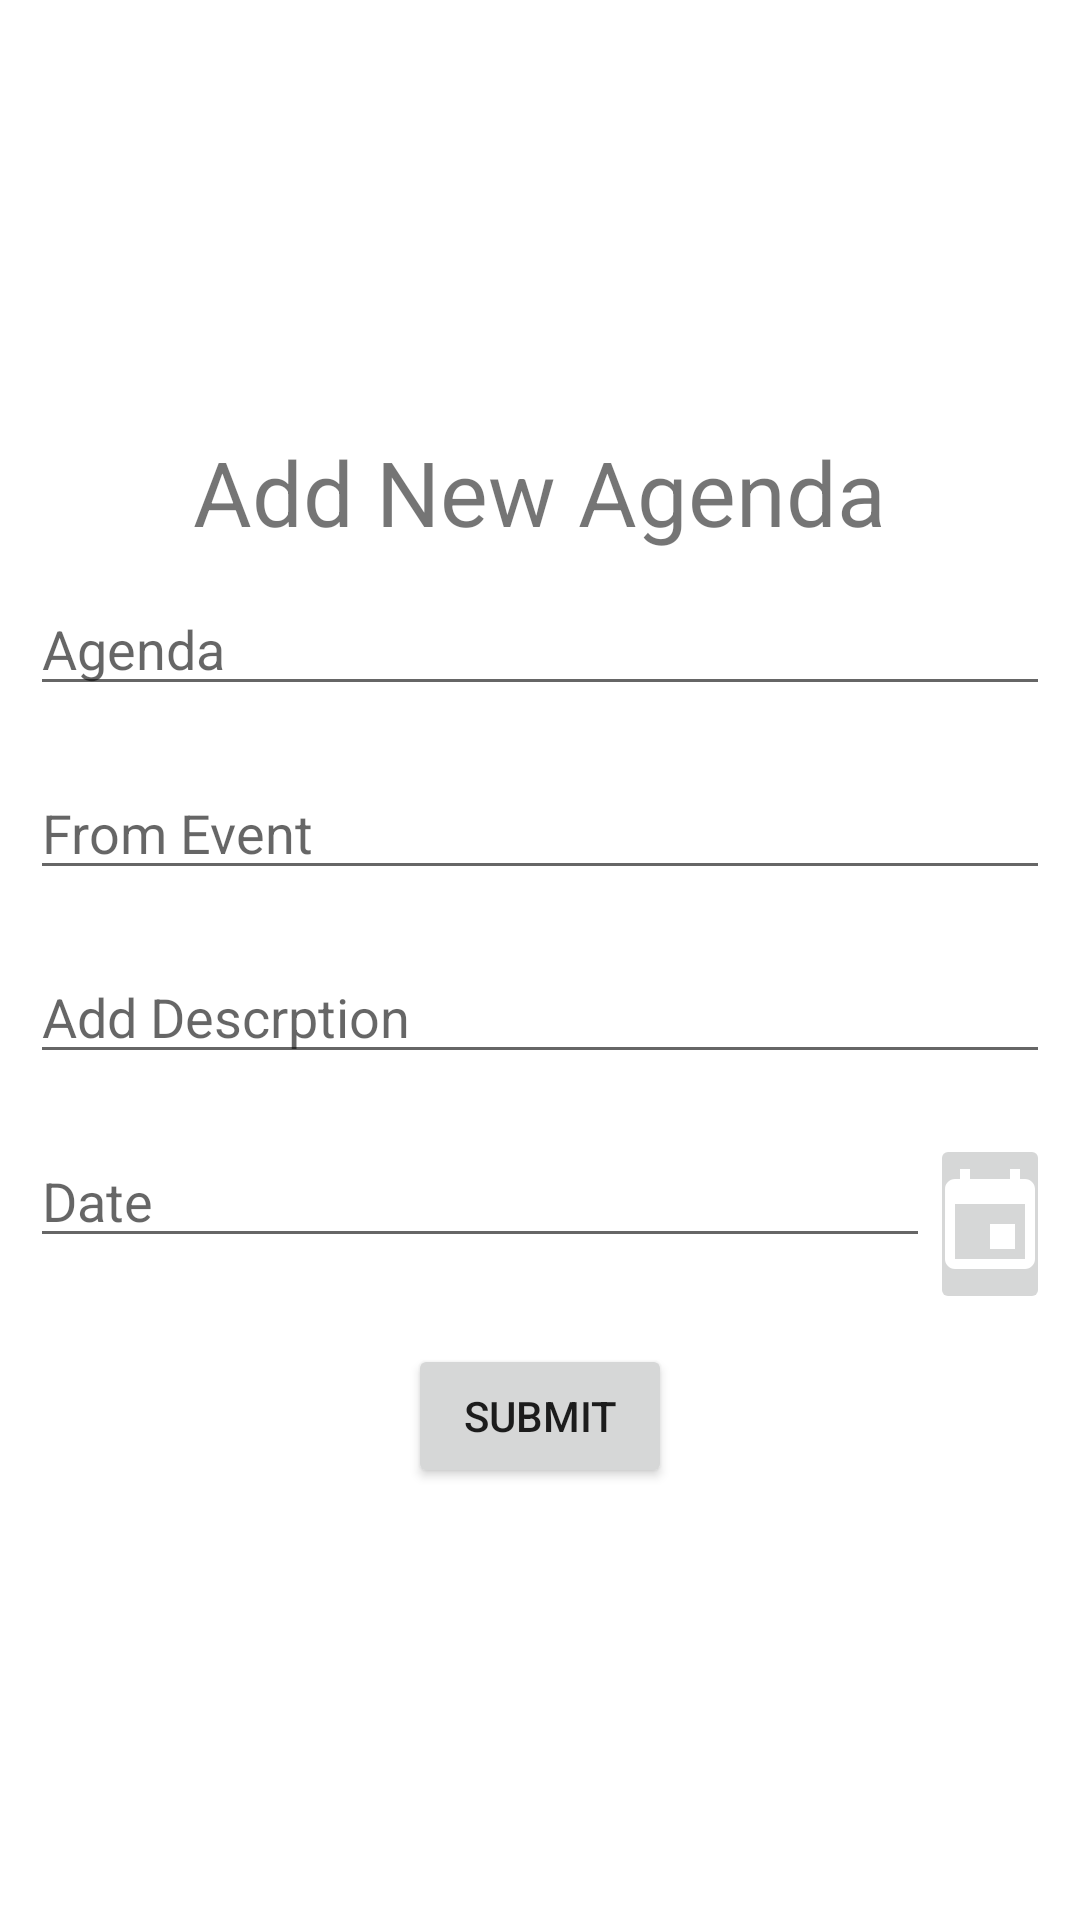

Locate icon controls on the screen. Image size 1080px×1920px, boxes as [x1,y1,x2,y2].
event: [942,1152,1038,1296]
